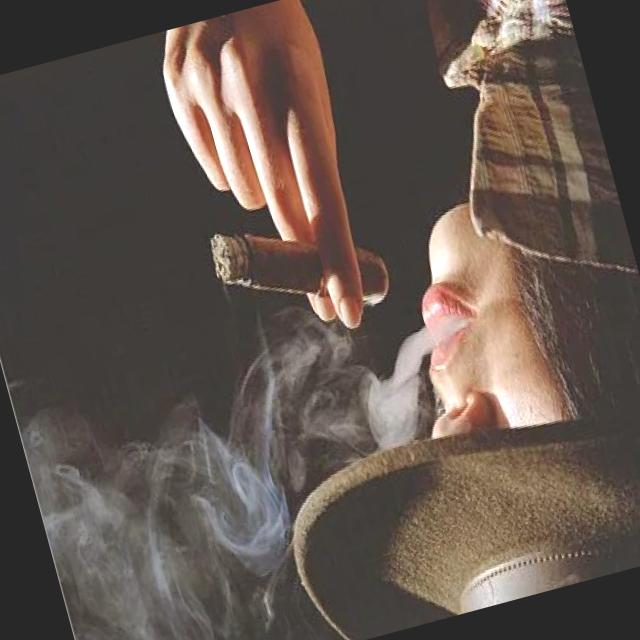smoke: (204, 198, 398, 350)
